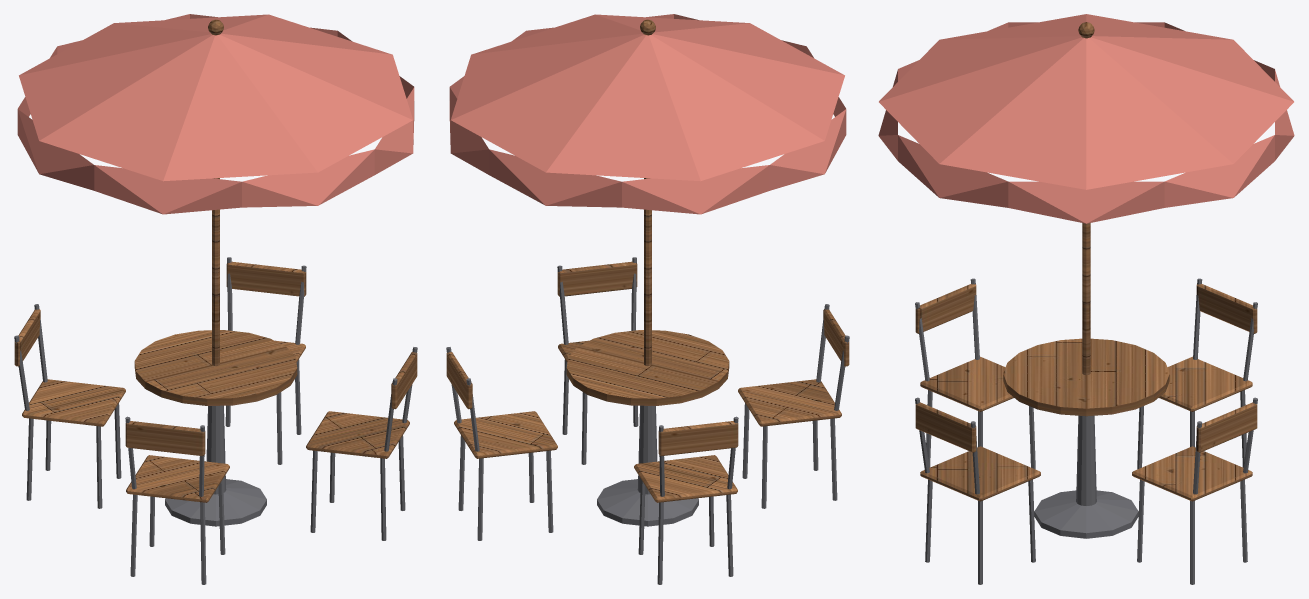
Rendered from umbrella_table_r.glb.
3 renders of one model, left to right at view 1: azimuth 30°, elevation 25°; view 2: azimuth 150°, elevation 25°; view 3: azimuth 270°, elevation 25°, orthographic.
Parts seen in each view (by area): view 1: umbrella_table_r_canvas_r, umbrella_table_r_wood, umbrella_table_r_iron; view 2: umbrella_table_r_canvas_r, umbrella_table_r_wood, umbrella_table_r_iron; view 3: umbrella_table_r_canvas_r, umbrella_table_r_wood, umbrella_table_r_iron.
Boxes of the visible parts, left/top/right/bottom form: umbrella_table_r_canvas_r: left=17, top=14, right=414, bottom=214; umbrella_table_r_wood: left=14, top=19, right=417, bottom=502; umbrella_table_r_iron: left=14, top=257, right=417, bottom=584; umbrella_table_r_canvas_r: left=449, top=14, right=846, bottom=214; umbrella_table_r_wood: left=446, top=19, right=849, bottom=502; umbrella_table_r_iron: left=446, top=257, right=849, bottom=584; umbrella_table_r_canvas_r: left=878, top=14, right=1294, bottom=223; umbrella_table_r_wood: left=915, top=22, right=1257, bottom=501; umbrella_table_r_iron: left=915, top=278, right=1257, bottom=584.
Size of the model in its own units: 2 by 2.62 by 2.
3 materials, 1 textured.
